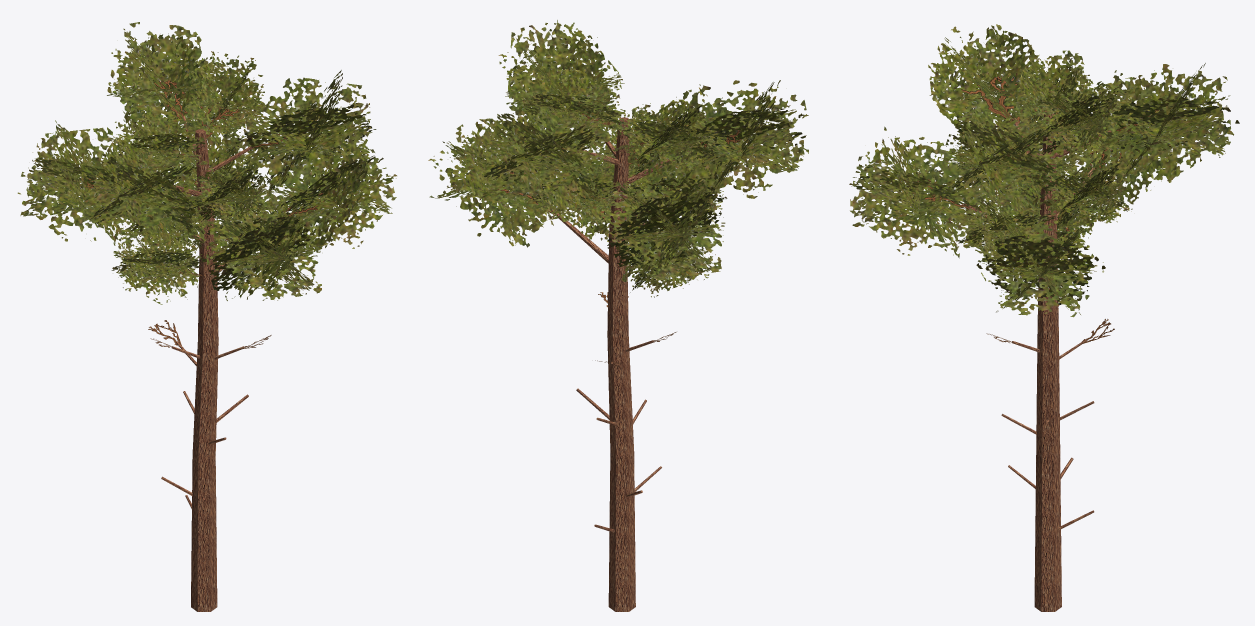
The model's file is Tree 1.fbx.
The picture shows the model from 3 angles, left to right: view 1: azimuth 30°, elevation 25°; view 2: azimuth 150°, elevation 25°; view 3: azimuth 270°, elevation 25°; orthographic projection. The views are drawn at different scales.
Parts seen in each view (by area): view 1: Cylinder; view 2: Cylinder; view 3: Cylinder.
Boxes of the visible parts, x1=… form: Cylinder: x1=17, y1=22, x2=396, y2=611; Cylinder: x1=428, y1=20, x2=808, y2=611; Cylinder: x1=849, y1=24, x2=1239, y2=611.
Bounding box in the file's own units: 6.7 × 10.1 × 6.61.
